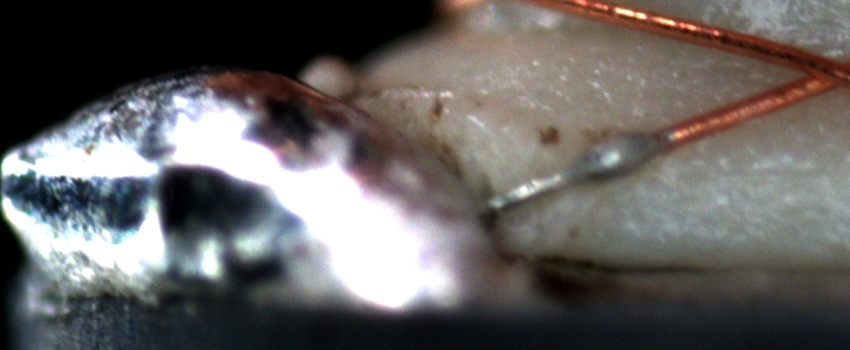CL: (780, 46, 845, 99)
DL: (675, 138, 850, 201)
TB: (578, 123, 675, 183)
TS: (482, 128, 671, 212)
TTCW: (472, 102, 728, 215)
